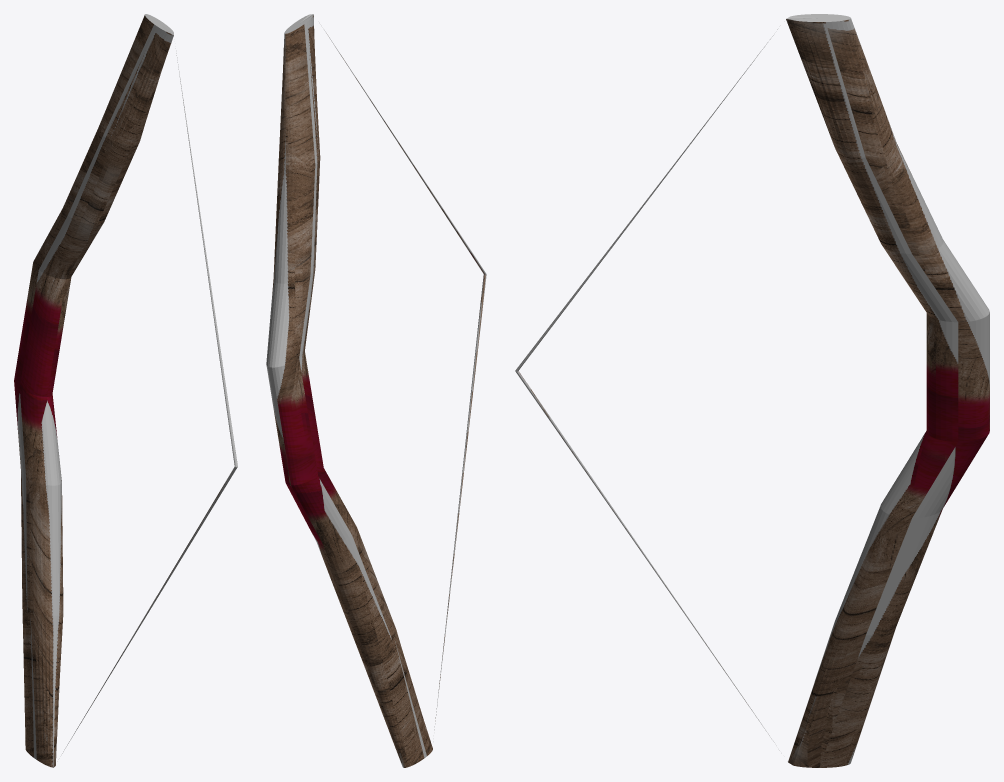
File: Protagonista113.obj
3 renders of one model, left to right at view 1: azimuth 30°, elevation 25°; view 2: azimuth 150°, elevation 25°; view 3: azimuth 270°, elevation 25°, orthographic. The views are drawn at different scales.
Parts seen in each view (by area): view 1: Cilindro; view 2: Cilindro; view 3: Cilindro.
Boxes of the visible parts, x1,y1,x2,y2 form: Cilindro: [14, 14, 237, 767]; Cilindro: [266, 14, 486, 767]; Cilindro: [515, 14, 989, 767].
Size of the model in its own units: 0.1877 by 0.9705 by 0.5129.
Materials: 1 (1 with a texture image).
